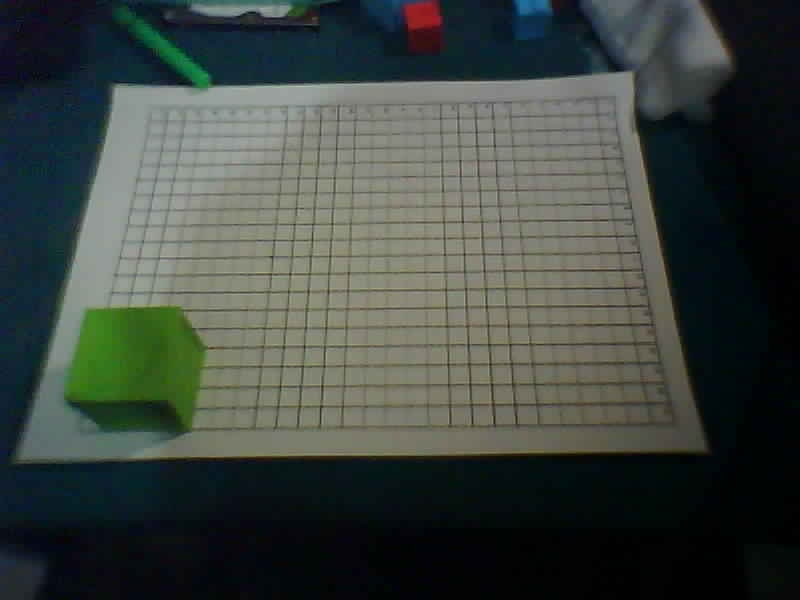LB: (77, 430, 85, 436)
LT: (148, 104, 156, 110)
RB: (670, 422, 678, 428)
RT: (609, 95, 617, 101)
